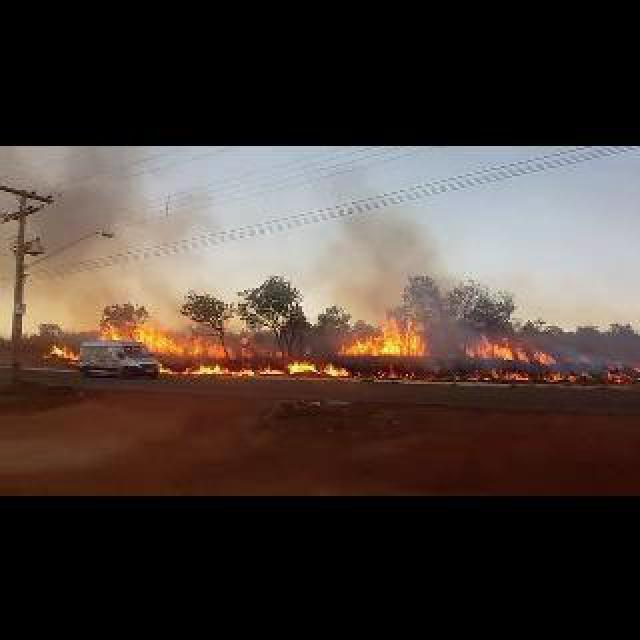Fire: (160, 362, 636, 380), (104, 322, 270, 352), (340, 318, 432, 356), (468, 326, 556, 358), (46, 346, 76, 364)
Smoke: (318, 204, 468, 328)
